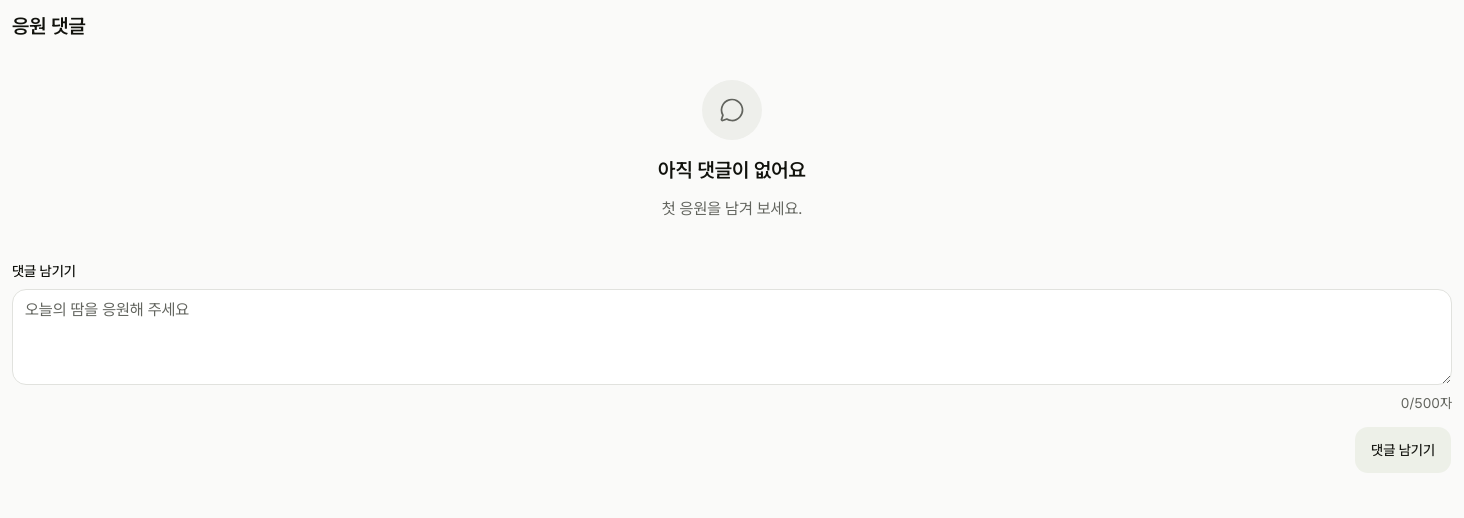
WorkoutCommentsView › 빈 댓글은 보내지 않고, 서버 오류에는 쓰던 내용을 남긴다
Click the button "댓글 남기기". click: [1403, 450]
box: top-left (1354, 426), bottom-right (1452, 474)
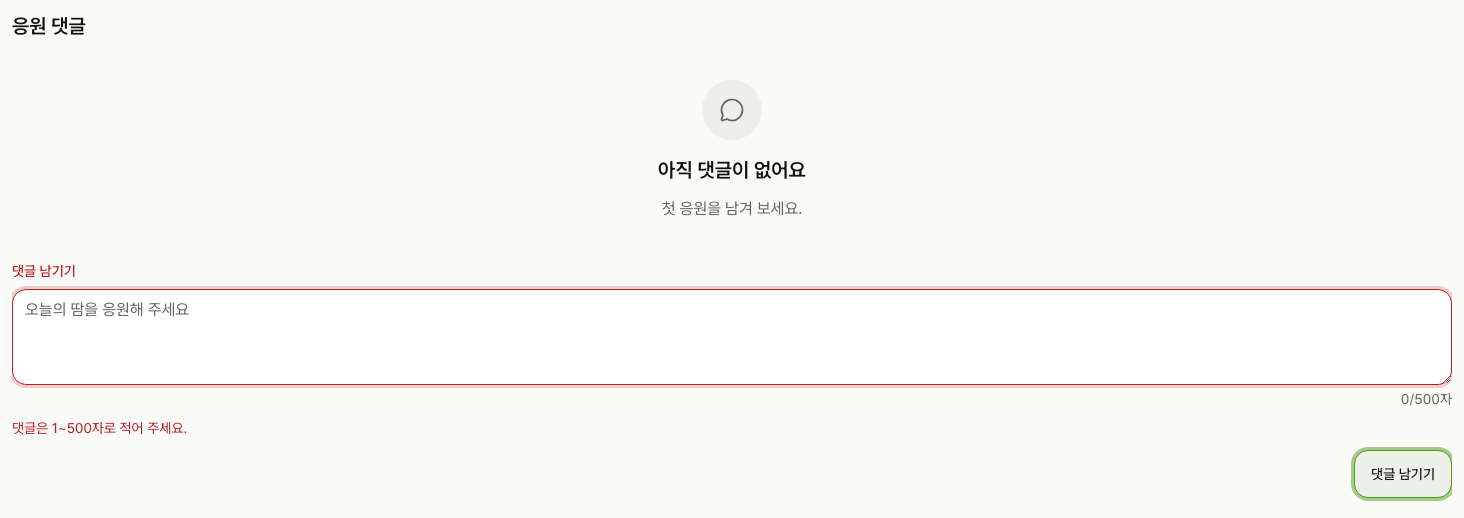
Result: the message reads "댓글은 1~500자로 적어 주세요." at top-left (12, 420), bottom-right (187, 436)
Type "응원해요" into the text box labelled "댓글 남기기". click: [732, 337]
box: top-left (12, 289), bottom-right (1452, 385)
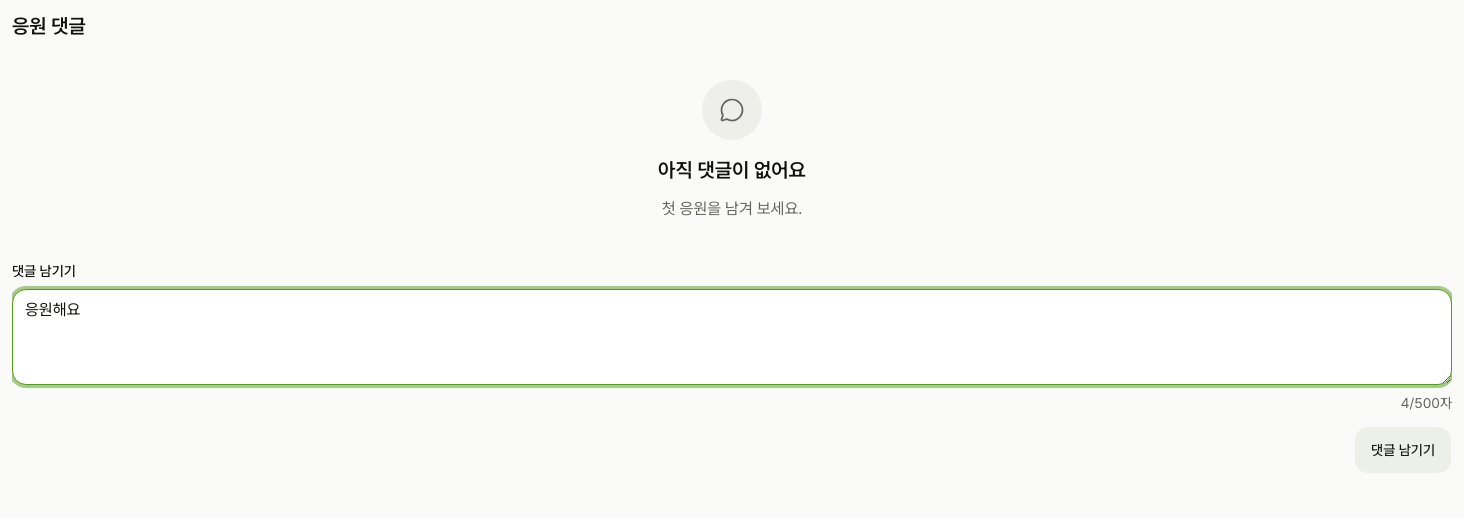
Result: the message "댓글은 1~500자로 적어 주세요." is gone
Click the button "댓글 남기기". click: [1403, 450]
box: top-left (1354, 426), bottom-right (1452, 474)
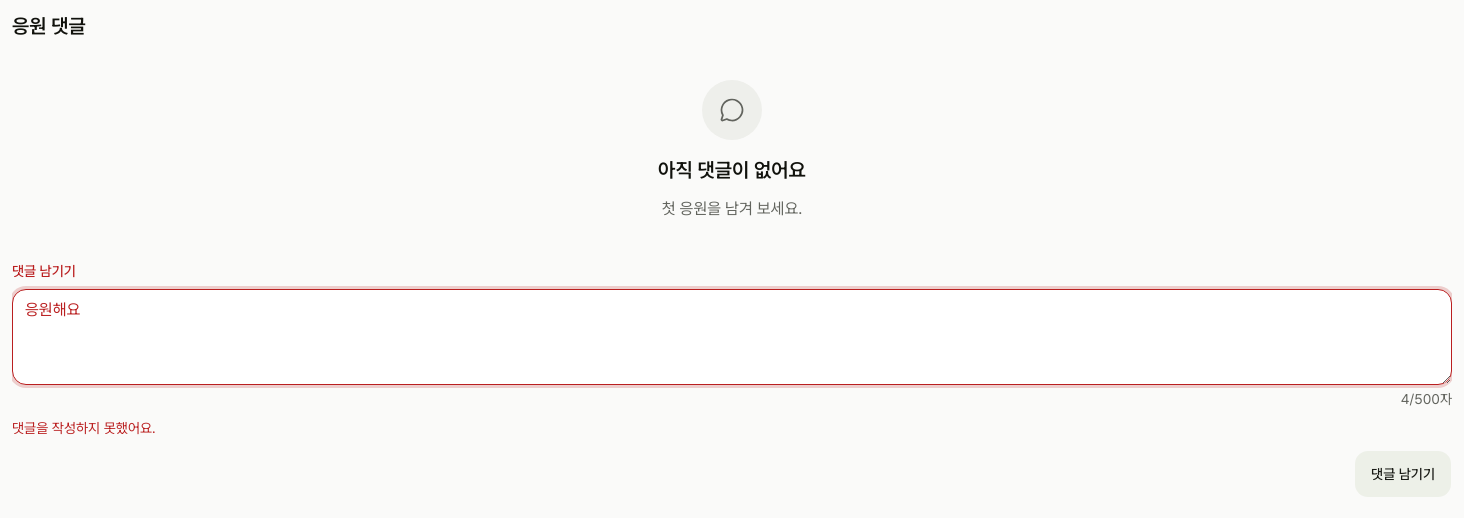
Result: the message reads "댓글을 작성하지 못했어요." at top-left (12, 420), bottom-right (156, 436)
